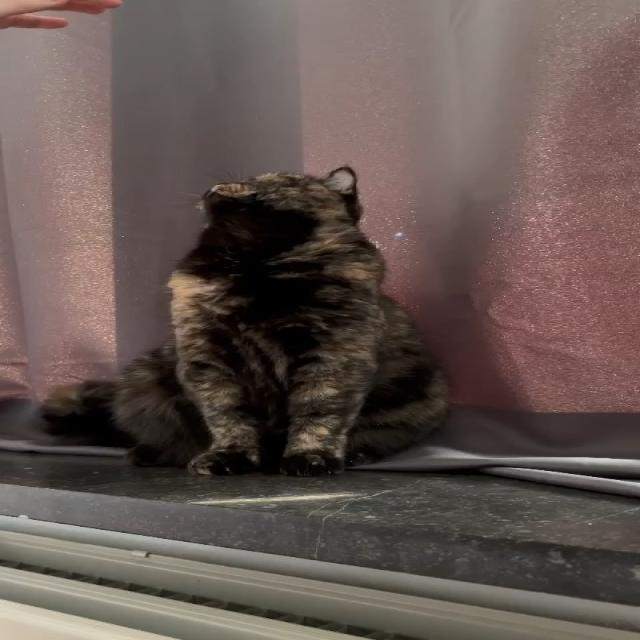authorized: (37, 165, 452, 477)
